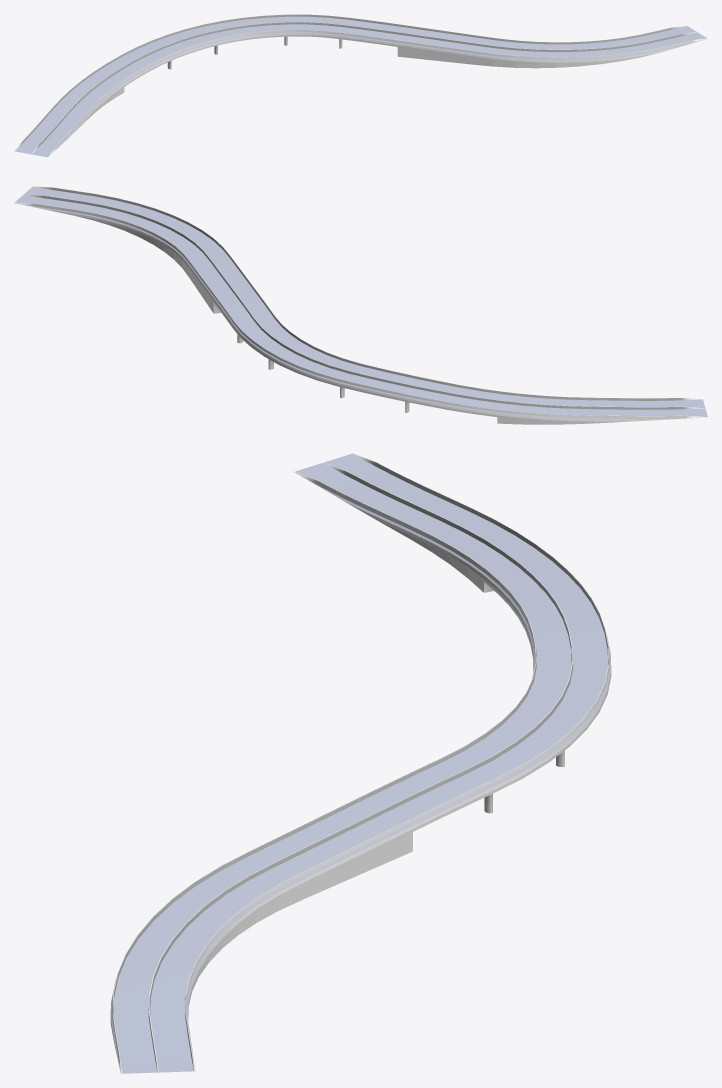
File: Zhandosova-Satpaeva-WO-ground.glb
3 renders of one model, top to bottom at view 1: azimuth 30°, elevation 25°; view 2: azimuth 150°, elevation 25°; view 3: azimuth 270°, elevation 25°, orthographic. The views are drawn at different scales.
Parts seen in each view (by area): view 1: group_3, group_1.001, group_1, group_1.003; view 2: group_3, group_1.001, group_1, group_1.002; view 3: group_1.001, group_1, group_3, group_1.002, group_1.003.
Boxes of the visible parts, x1,y1,x2,y2 form: group_3: (14, 14, 707, 157); group_1.001: (15, 16, 696, 154); group_1: (31, 24, 706, 157); group_1.003: (56, 32, 707, 149); group_3: (14, 186, 707, 424); group_1.001: (15, 195, 707, 416); group_1: (24, 187, 705, 407); group_1.002: (14, 203, 705, 419); group_1.001: (150, 453, 607, 1072); group_1: (114, 463, 571, 1073); group_3: (110, 453, 611, 1073); group_1.002: (186, 633, 610, 1069); group_1.003: (111, 473, 534, 1073).
Size of the model in its own units: 330 by 9.23 by 113.
3 materials, 2 textured.
